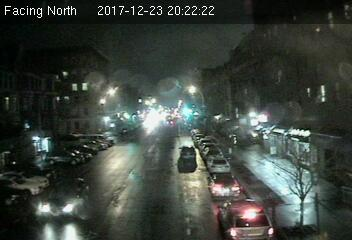car: (216, 196, 277, 240), (38, 177, 90, 219), (209, 174, 240, 198), (207, 154, 230, 173), (177, 146, 196, 159)
